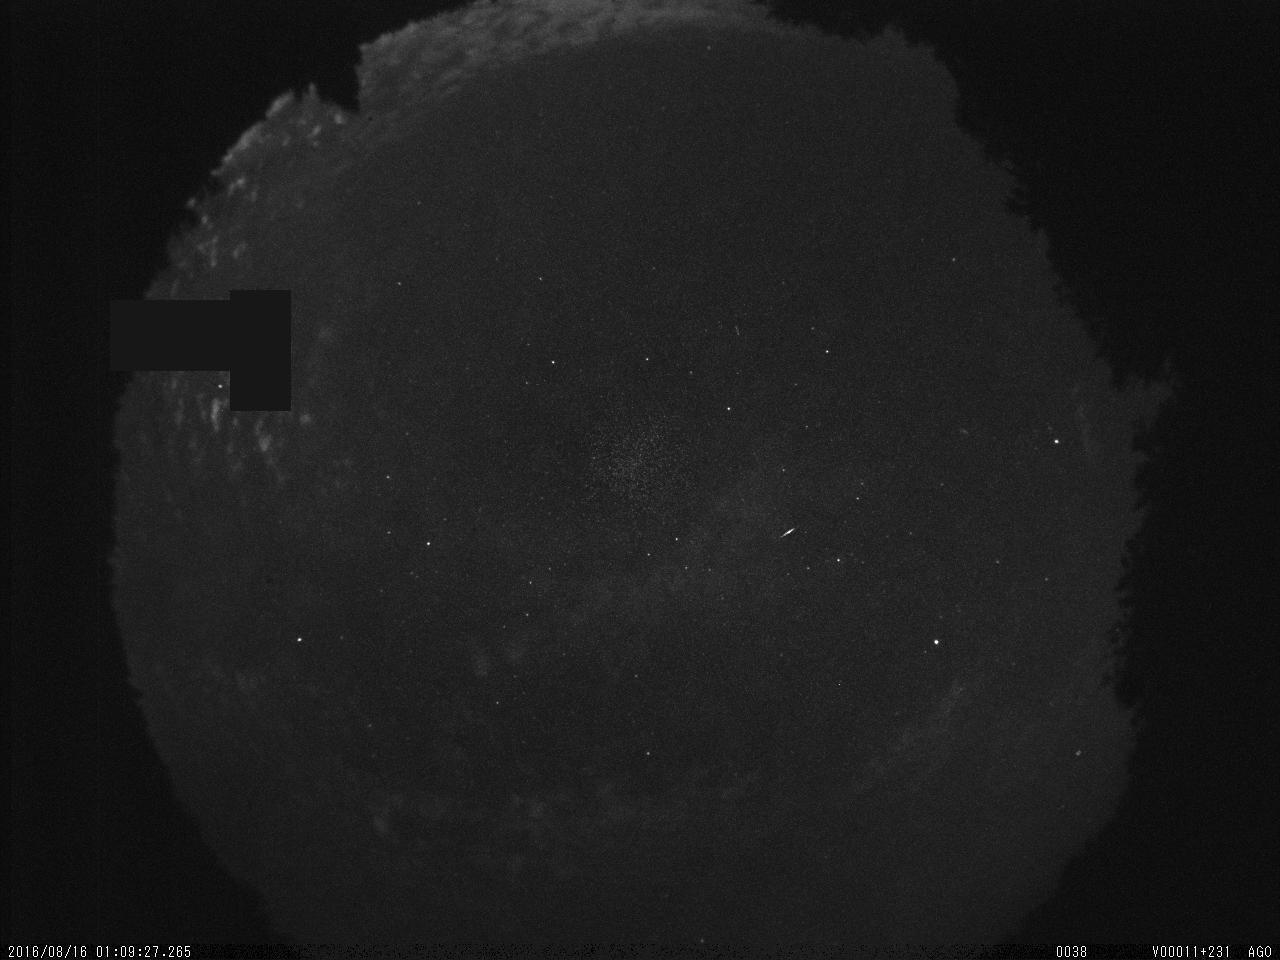meteor: (777, 525, 802, 544)
